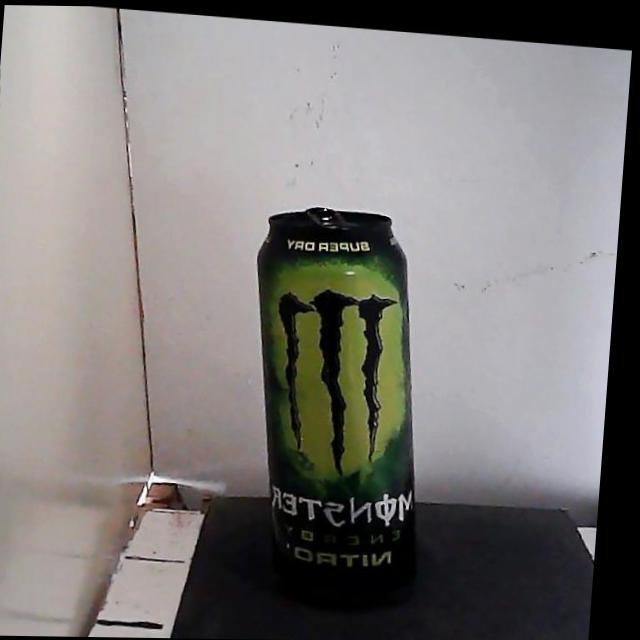metal: (258, 208, 415, 603)
